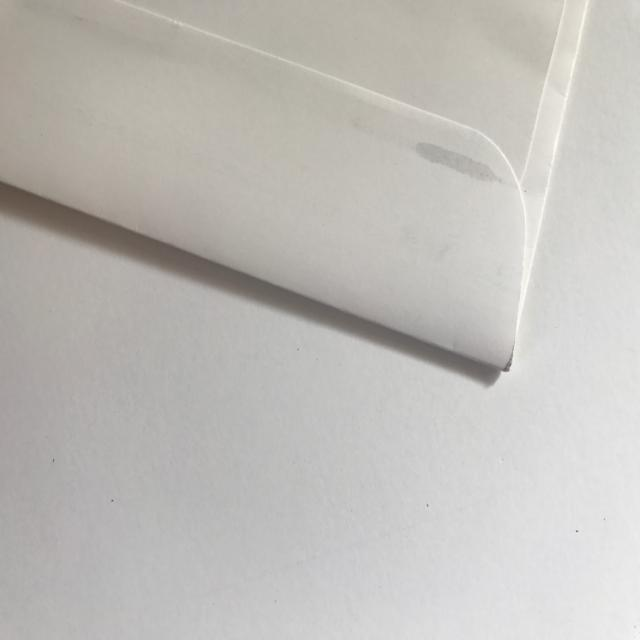paper: (0, 0, 591, 375)
